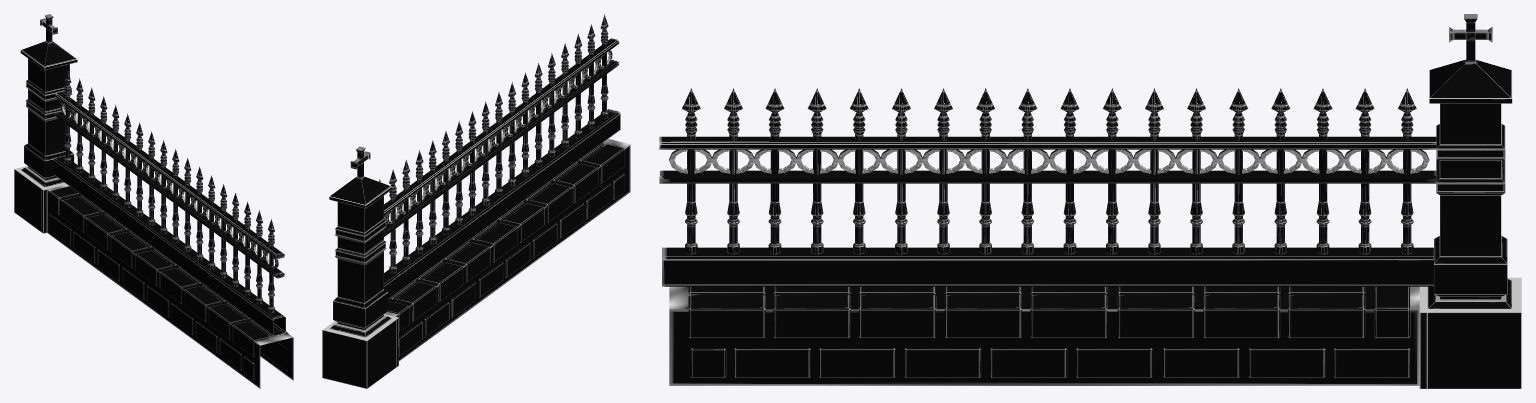
Rendered from p_graveyardfence.fbx.
3 renders of one model, left to right at view 1: azimuth 30°, elevation 25°; view 2: azimuth 150°, elevation 25°; view 3: azimuth 270°, elevation 25°, orthographic. The views are drawn at different scales.
Visible parts, largest first — view 1: Graveyard_Fence; view 2: Graveyard_Fence; view 3: Graveyard_Fence.
Part boxes in pixels (x1,y1,x2,y2): Graveyard_Fence: (14,14,293,388); Graveyard_Fence: (322,14,630,388); Graveyard_Fence: (659,14,1521,388).
Bounding box in the file's own units: 97.64 × 465 × 1023.
